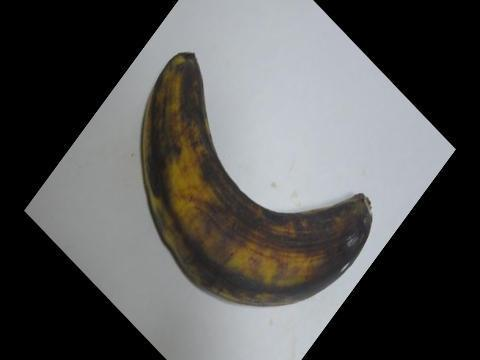overripe: (130, 37, 404, 332)
